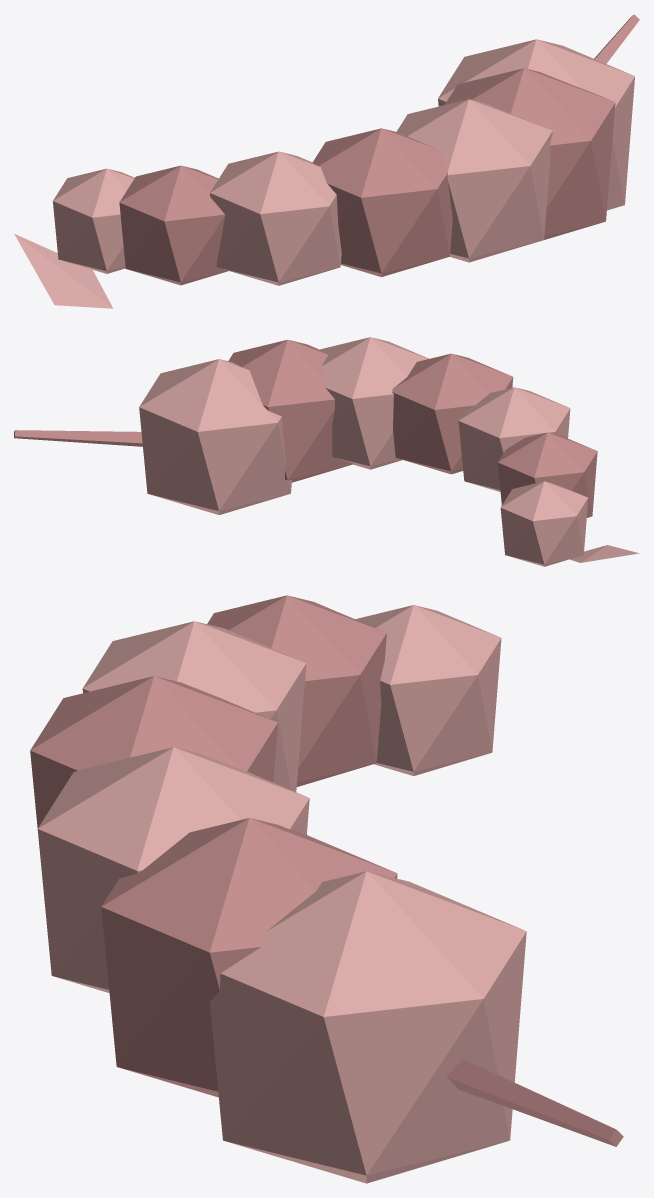
Rendered from drop_shrimp_raw.glb.
3 views of the same model, one above another, from view 1: azimuth 30°, elevation 25°; view 2: azimuth 150°, elevation 25°; view 3: azimuth 270°, elevation 25° (orthographic). The views are drawn at different scales.
Visible parts, largest first — view 1: drop_shrimp_raw; view 2: drop_shrimp_raw; view 3: drop_shrimp_raw.
Part boxes in pixels (<box>): drop_shrimp_raw: <box>14,14,639,308</box>; drop_shrimp_raw: <box>14,337,639,566</box>; drop_shrimp_raw: <box>30,595,623,1183</box>.
Bounding box in the file's own units: 0.4118 × 0.12 × 0.1923.
